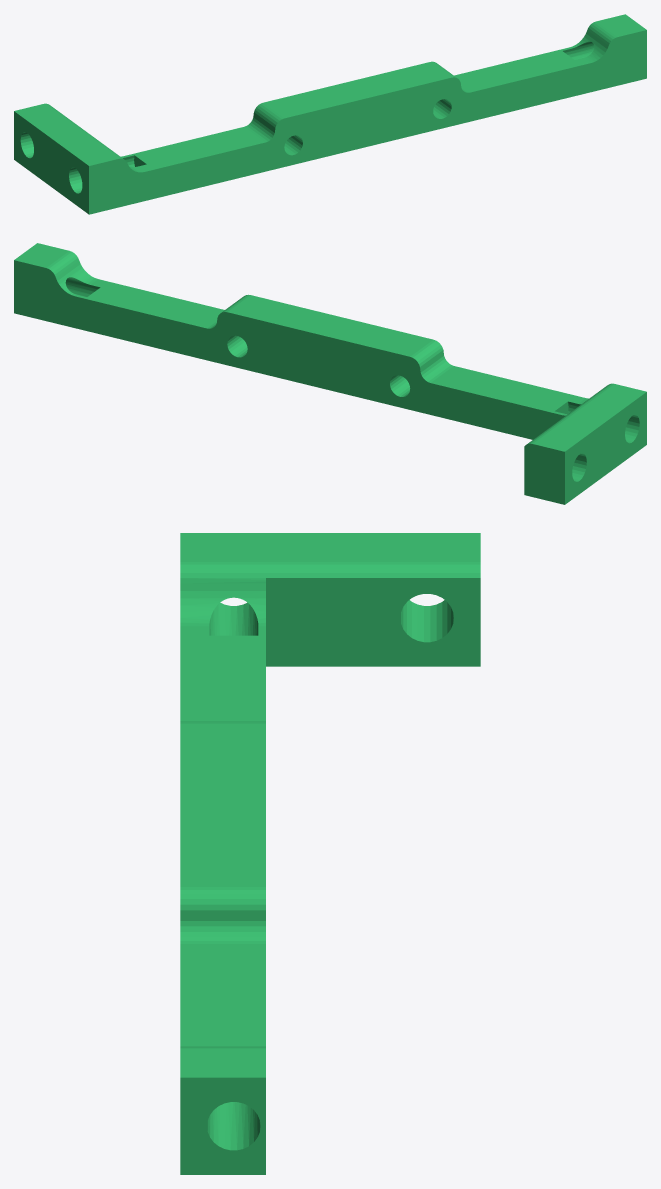
File: BehindBridge.glb
3 views of the same model, one above another, from view 1: azimuth 30°, elevation 25°; view 2: azimuth 150°, elevation 25°; view 3: azimuth 270°, elevation 25° (orthographic). The views are drawn at different scales.
Visible parts, largest first — view 1: BehindBridge.stl; view 2: BehindBridge.stl; view 3: BehindBridge.stl.
Boxes of the visible parts, box(x1,y1,x2,y2) form: BehindBridge.stl: box(14, 14, 646, 214); BehindBridge.stl: box(14, 243, 646, 504); BehindBridge.stl: box(180, 533, 480, 1174).
Size of the model in its own units: 60 by 5 by 14.
